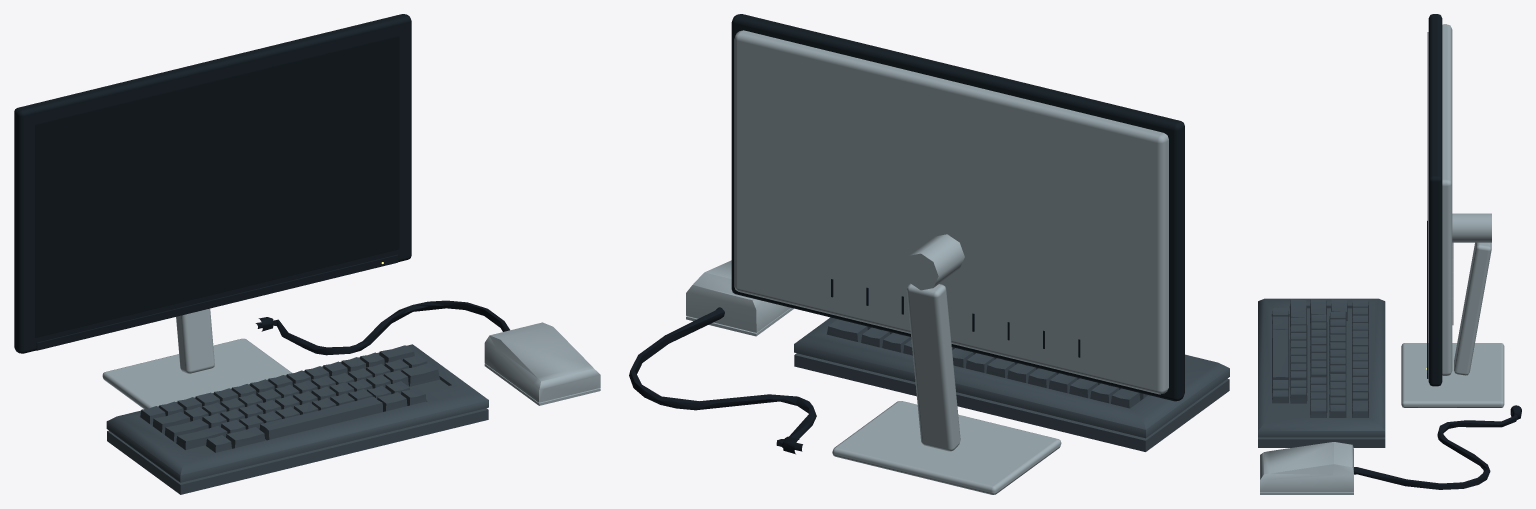
Rendered from computer.glb.
The picture shows the model from 3 angles, left to right: view 1: azimuth 30°, elevation 25°; view 2: azimuth 150°, elevation 25°; view 3: azimuth 270°, elevation 25°; orthographic projection. The views are drawn at different scales.
Visible parts, largest first — view 1: glass, keys, bezel, aluminum, cable; view 2: aluminum, keys, bezel, cable; view 3: keys, aluminum, bezel, cable, glass.
Boxes of the visible parts, x1,y1,x2,y2 form: glass: [35, 36, 399, 337]; keys: [106, 344, 488, 494]; bezel: [14, 14, 411, 353]; aluminum: [102, 308, 600, 408]; cable: [255, 300, 509, 355]; aluminum: [686, 30, 1168, 494]; keys: [794, 317, 1229, 451]; bezel: [731, 14, 1184, 401]; cable: [629, 307, 816, 454]; keys: [1258, 298, 1385, 447]; aluminum: [1260, 24, 1504, 494]; bezel: [1427, 14, 1442, 386]; cable: [1354, 405, 1521, 489]; glass: [1427, 32, 1428, 368].
Bounding box in the file's own units: 0.7482 × 0.4905 × 0.4106.
